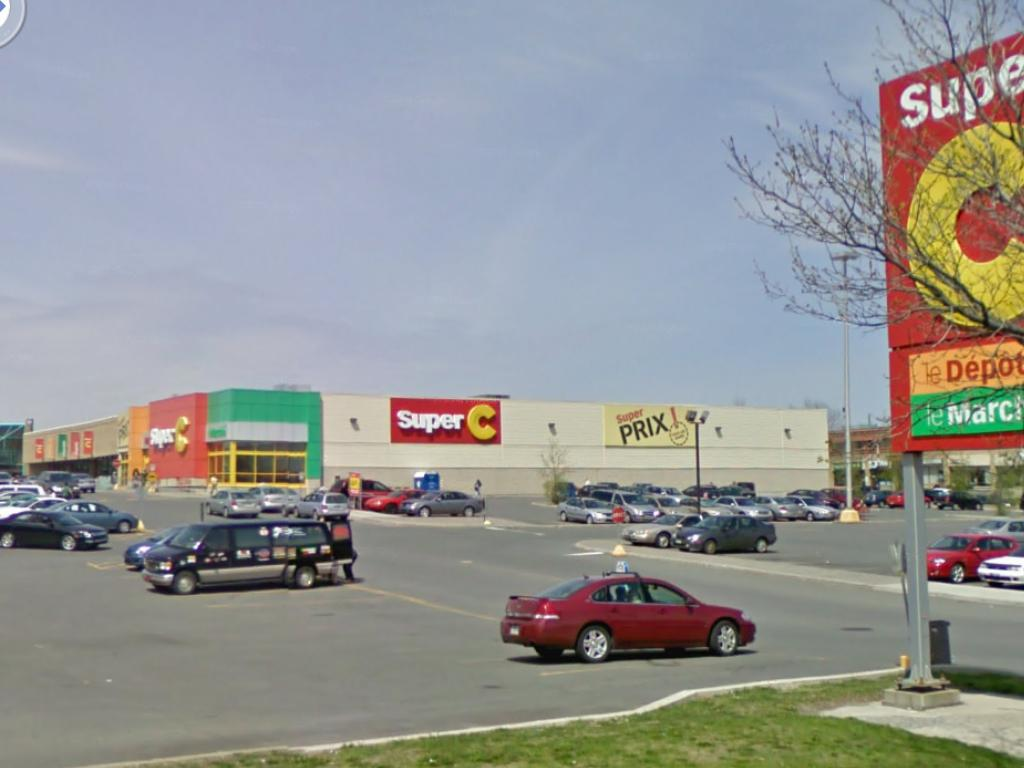Car: (504, 576, 753, 672), (556, 469, 858, 522), (133, 520, 327, 587), (3, 463, 129, 554), (924, 528, 1022, 587), (0, 504, 110, 550), (675, 505, 773, 551), (48, 495, 144, 536), (273, 484, 359, 525), (622, 504, 696, 548), (556, 492, 622, 530), (401, 490, 485, 516), (704, 492, 776, 518), (750, 492, 808, 523), (366, 485, 421, 516), (126, 532, 168, 572), (291, 493, 357, 517), (330, 471, 378, 504), (202, 490, 261, 516), (977, 555, 1022, 588), (245, 480, 293, 509), (972, 513, 1022, 538), (855, 489, 890, 509), (71, 469, 99, 490), (885, 484, 901, 516)
